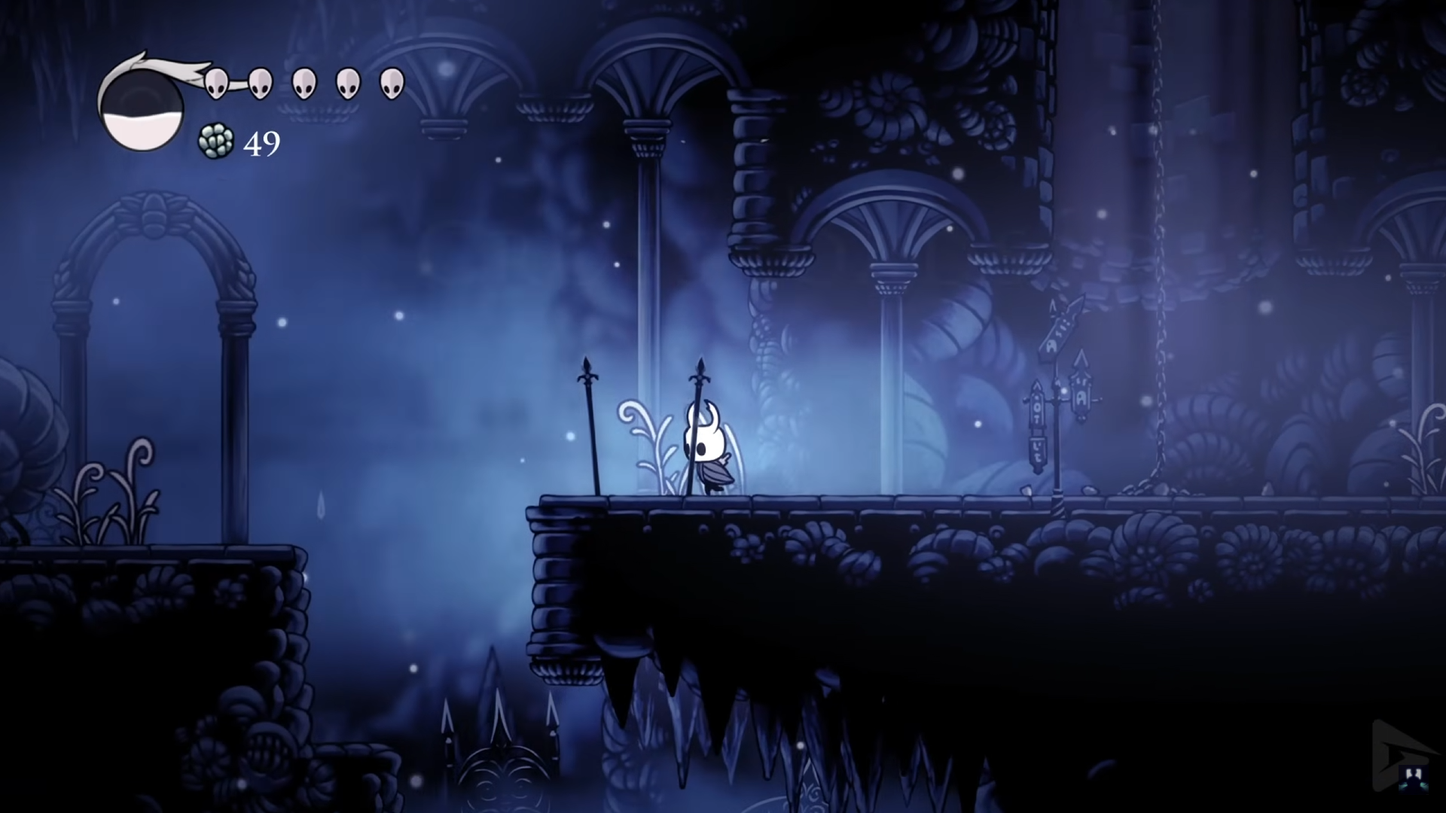HK: (683, 398, 739, 498)
